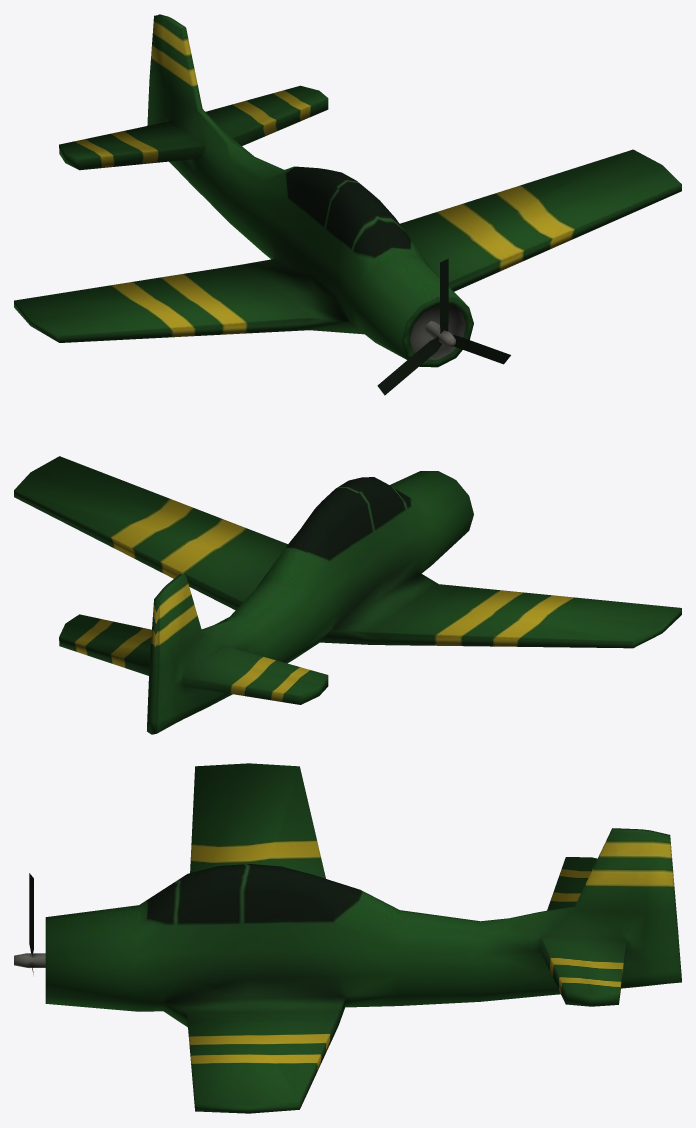
Rendered from trainer.glb.
The picture shows the model from 3 angles, top to bottom: view 1: azimuth 30°, elevation 25°; view 2: azimuth 150°, elevation 25°; view 3: azimuth 270°, elevation 25°; orthographic projection. The views are drawn at different scales.
Visible parts, largest first — view 1: Cylinder.001_Cylinder.002; view 2: Cylinder.001_Cylinder.002; view 3: Cylinder.001_Cylinder.002.
Boxes of the visible parts, box(x1,y1,x2,y2) form: Cylinder.001_Cylinder.002: box(14, 14, 681, 395); Cylinder.001_Cylinder.002: box(14, 456, 681, 734); Cylinder.001_Cylinder.002: box(14, 763, 681, 1113).
Size of the model in its own units: 7.83 by 1.91 by 6.45.
1 material, 1 textured.
